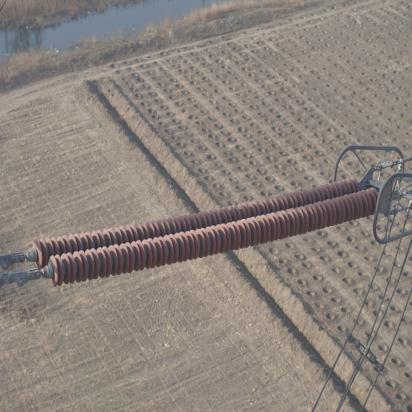insulator: (13, 174, 387, 290)
